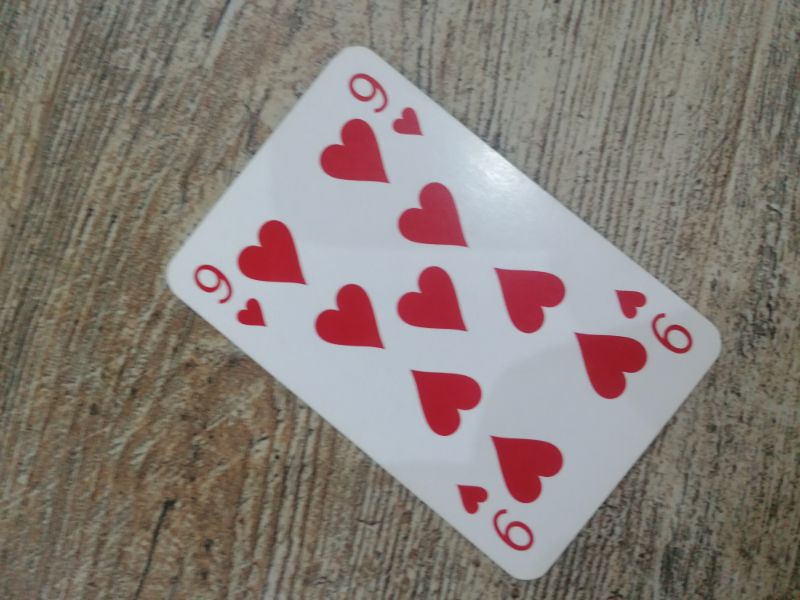9h: (454, 479, 540, 556), (189, 256, 270, 335), (343, 65, 428, 140), (611, 283, 696, 358)
